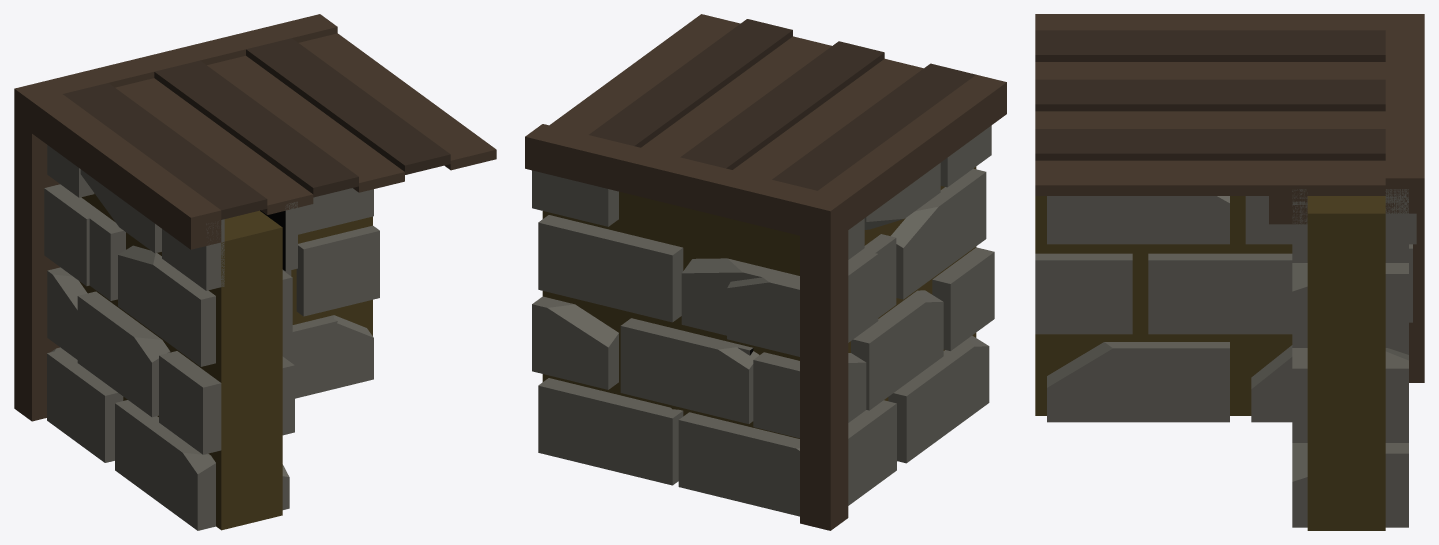
Rendered from A_WoodFloor03.fbx.
3 renders of one model, left to right at view 1: azimuth 30°, elevation 25°; view 2: azimuth 150°, elevation 25°; view 3: azimuth 270°, elevation 25°, orthographic. The views are drawn at different scales.
Parts seen in each view (by area): view 1: A_WoodFloor03; view 2: A_WoodFloor03; view 3: A_WoodFloor03.
Boxes of the visible parts, box(x1,y1,x2,y2) form: A_WoodFloor03: box(14, 14, 496, 530); A_WoodFloor03: box(525, 14, 1006, 530); A_WoodFloor03: box(1035, 14, 1424, 530).
Bounding box in the file's own units: 100 × 100 × 100.
